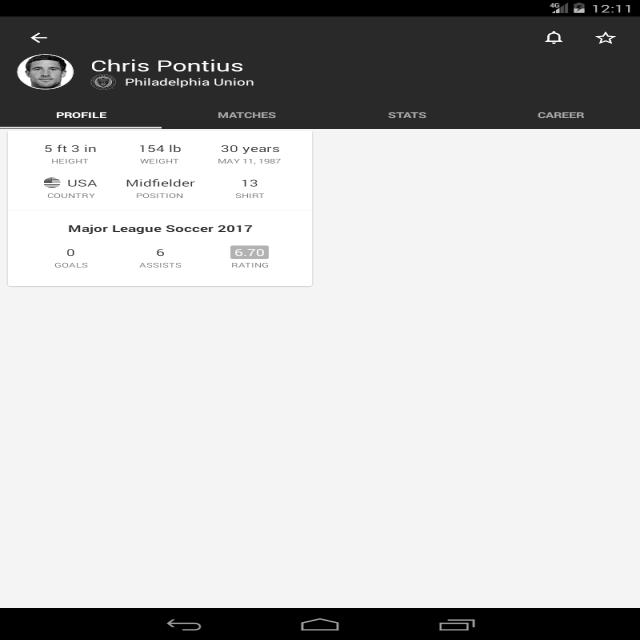ImageButton: (534, 26, 570, 48), (590, 28, 620, 48), (23, 30, 54, 49)
ImageView: (15, 55, 78, 89)
TextView: (58, 217, 260, 235), (91, 56, 255, 72), (122, 176, 203, 200), (124, 77, 262, 89), (38, 141, 105, 164), (48, 107, 133, 122), (218, 145, 282, 164), (130, 142, 184, 162), (205, 110, 289, 121), (537, 107, 590, 122), (384, 108, 435, 121)
